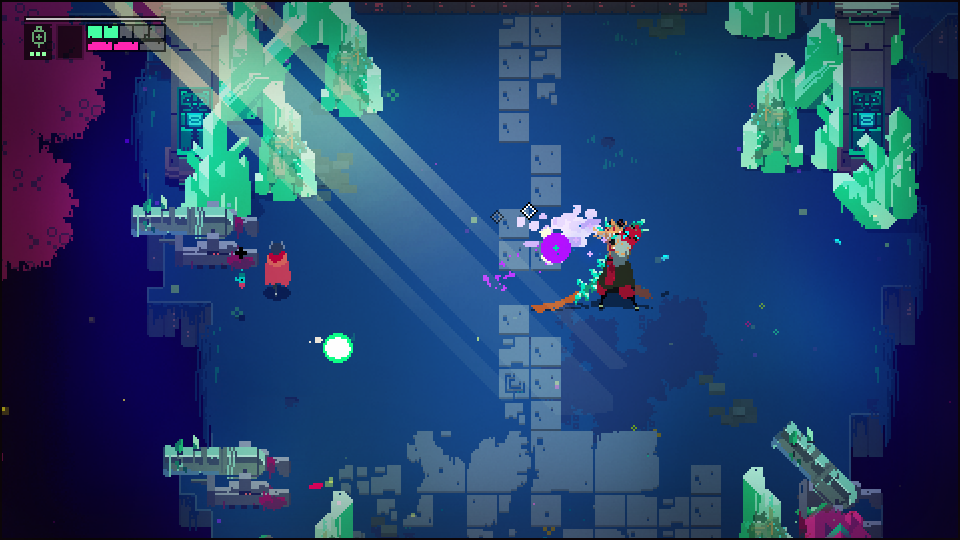hanged_man: (570, 219, 653, 315)
hanged_shot: (321, 335, 356, 366), (544, 235, 570, 263)
player: (260, 240, 290, 300)
